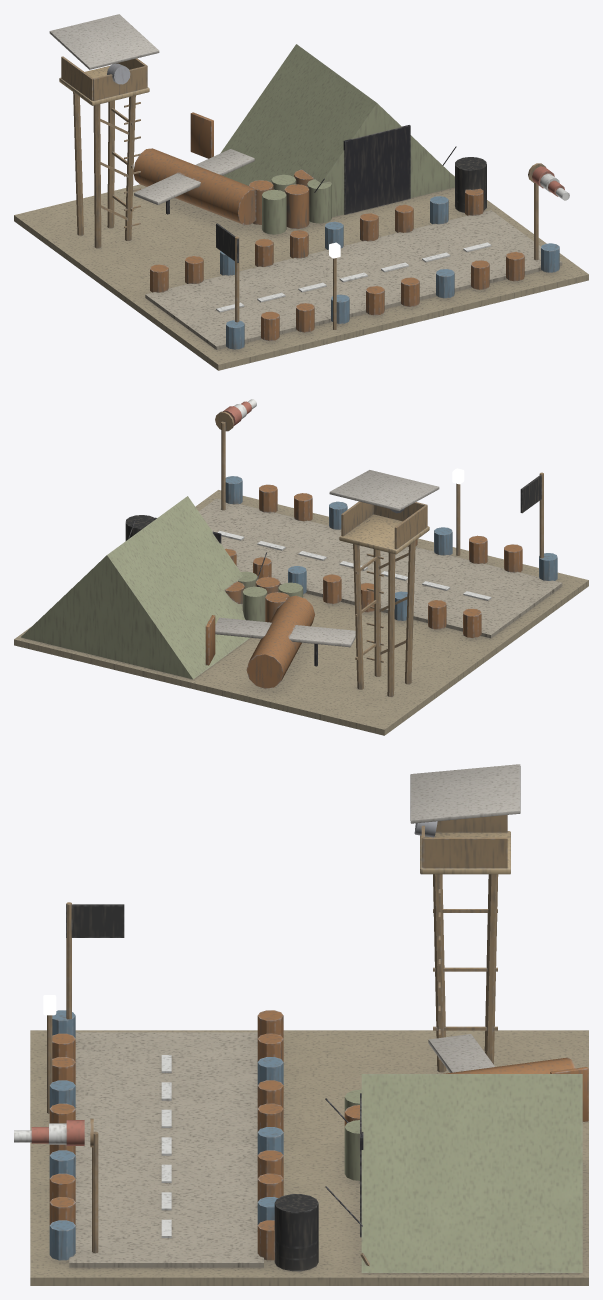
File: shadow_airfield.glb
3 views of the same model, one above another, from view 1: azimuth 30°, elevation 25°; view 2: azimuth 150°, elevation 25°; view 3: azimuth 270°, elevation 25° (orthographic). The views are drawn at different scales.
Parts seen in each view (by area): view 1: Hull; view 2: Hull; view 3: Hull.
Boxes of the visible parts, <box> form: Hull: <box>14,14,588,370</box>; Hull: <box>14,399,588,735</box>; Hull: <box>14,764,588,1285</box>.
Size of the model in its own units: 9 by 4.78 by 8.85.
15 materials, 15 textured.
